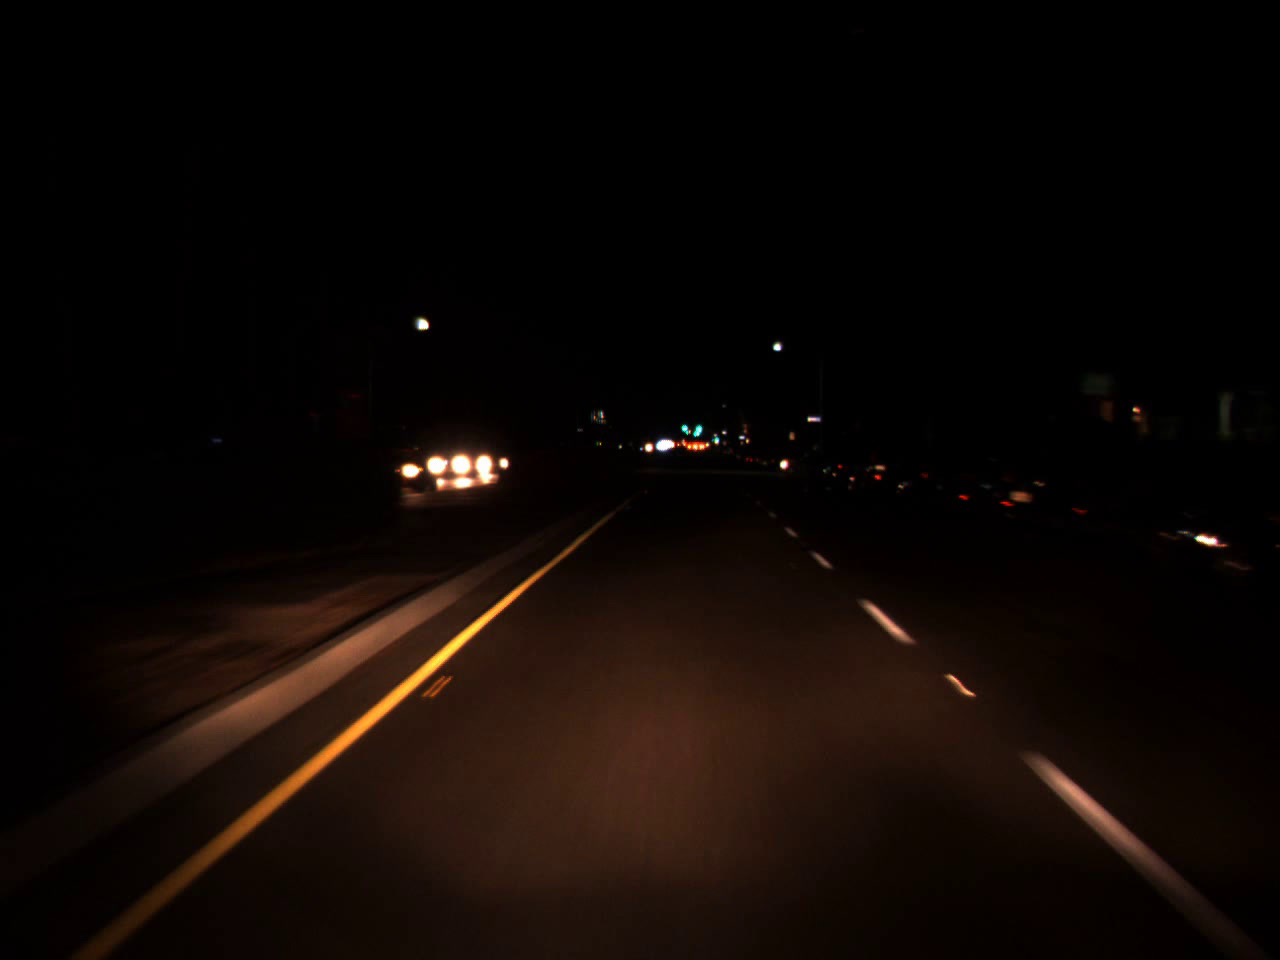go: (690, 411, 703, 441), (679, 411, 689, 438), (712, 431, 719, 443)
